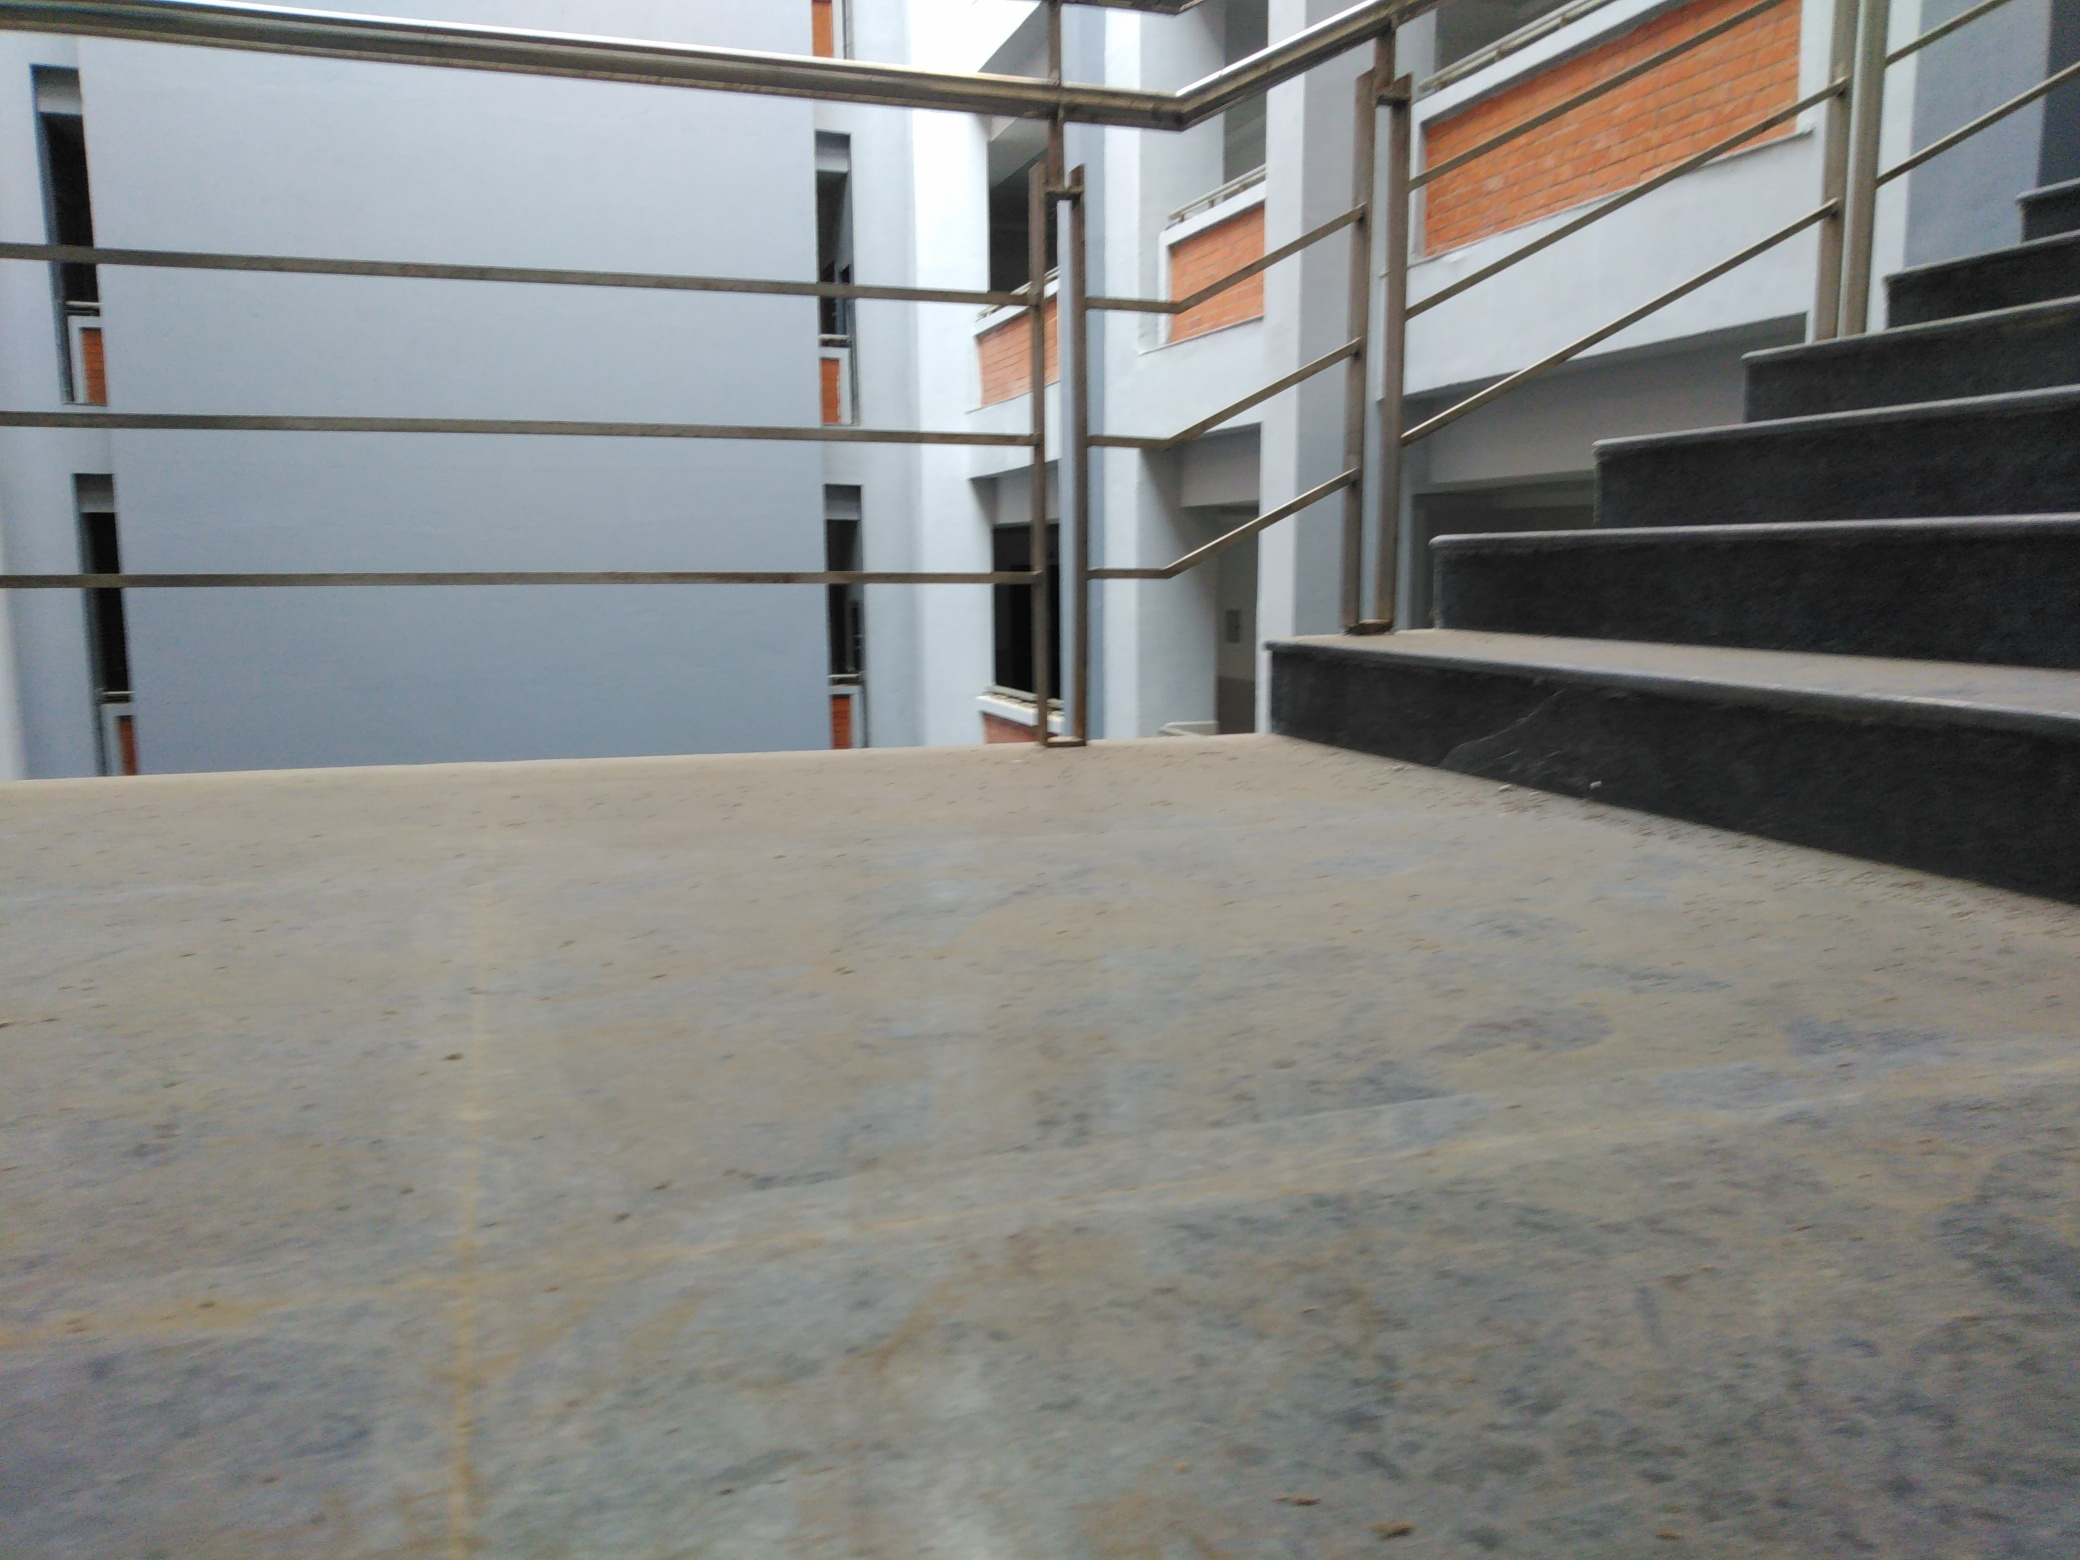stairs_up: (1277, 174, 2075, 872)
